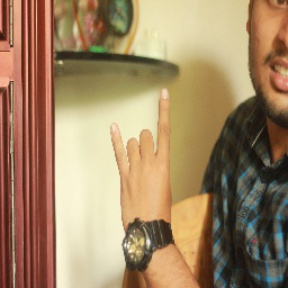V: (103, 84, 182, 225)
